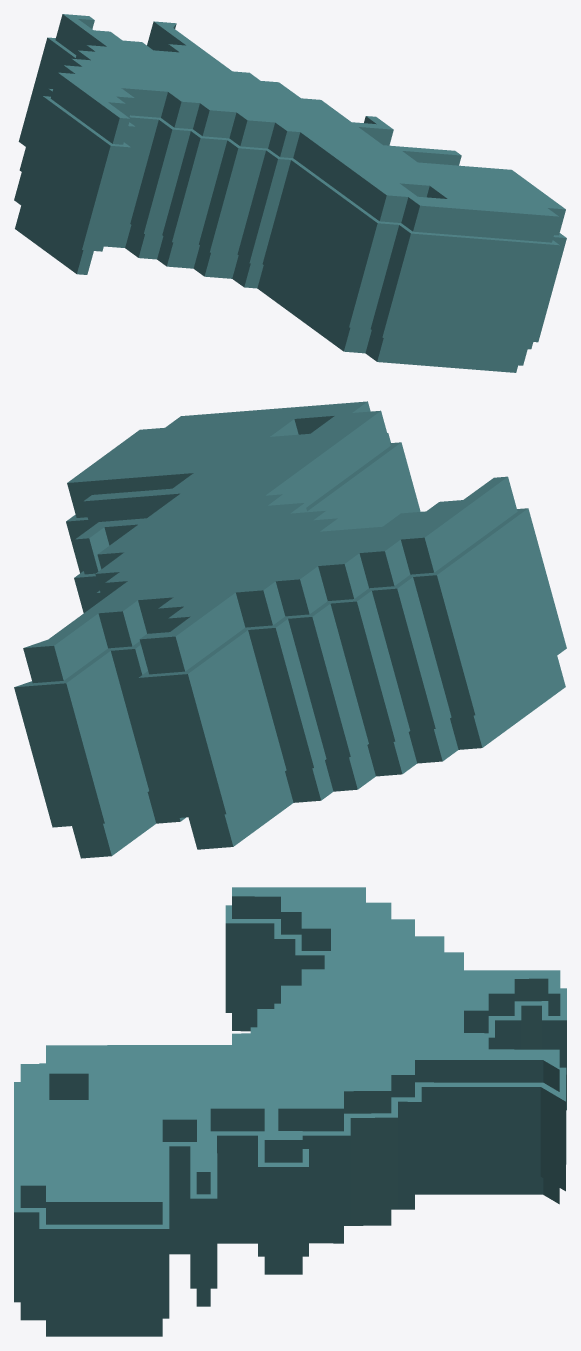
3 views of the same model, one above another, from view 1: azimuth 30°, elevation 25°; view 2: azimuth 150°, elevation 25°; view 3: azimuth 270°, elevation 25° (orthographic). The views are drawn at different scales.
Parts seen in each view (by area): view 1: Dino_Google; view 2: Dino_Google; view 3: Dino_Google.
Part boxes in pixels (box(x1,y1,x2,y2)): Dino_Google: box(14, 14, 566, 372); Dino_Google: box(14, 401, 566, 858); Dino_Google: box(14, 887, 566, 1336).
Bounding box in the file's own units: 1.81 × 1.13 × 2.
